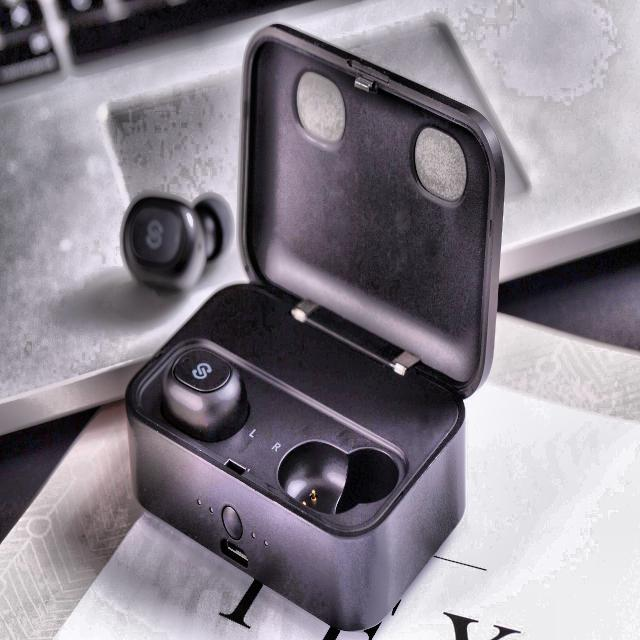Bluetooth headphones: (125, 24, 504, 630), (123, 196, 235, 292)
